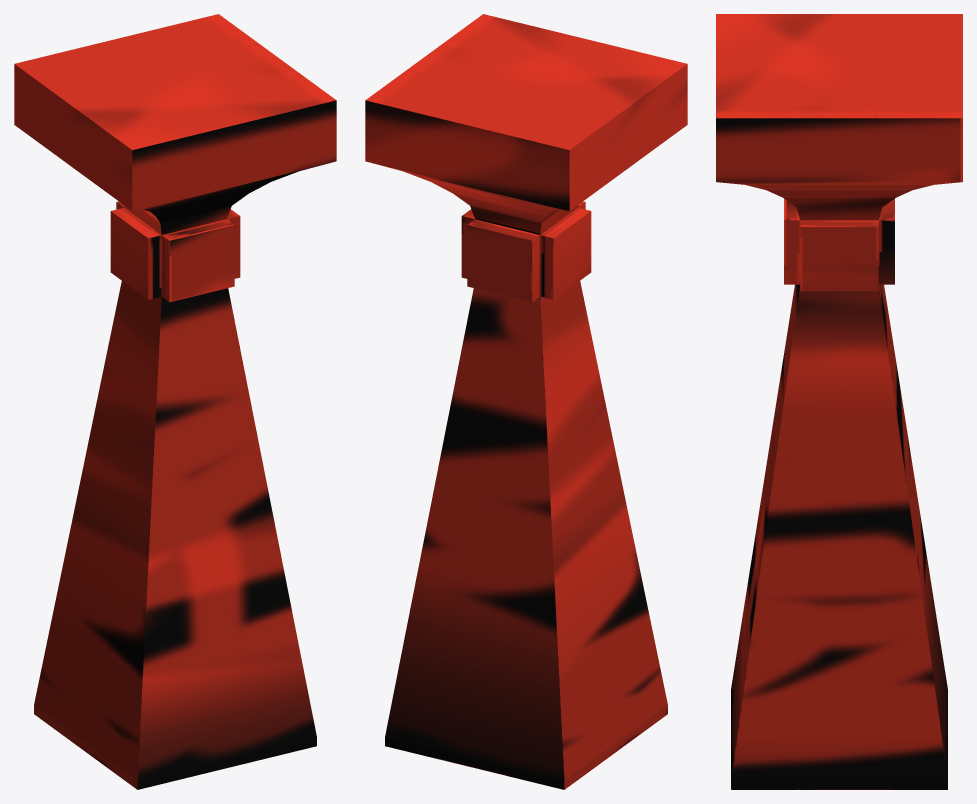
The model's file is Landmark.fbx.
3 renders of one model, left to right at view 1: azimuth 30°, elevation 25°; view 2: azimuth 150°, elevation 25°; view 3: azimuth 270°, elevation 25°, orthographic. The views are drawn at different scales.
Visible parts, largest first — view 1: Cube; view 2: Cube; view 3: Cube.
Boxes of the visible parts, box(x1,y1,x2,y2) form: Cube: box(14, 14, 336, 789); Cube: box(365, 14, 687, 789); Cube: box(716, 14, 962, 789).
Bounding box in the file's own units: 4557 × 13812 × 4557.
1 material, 1 textured.
